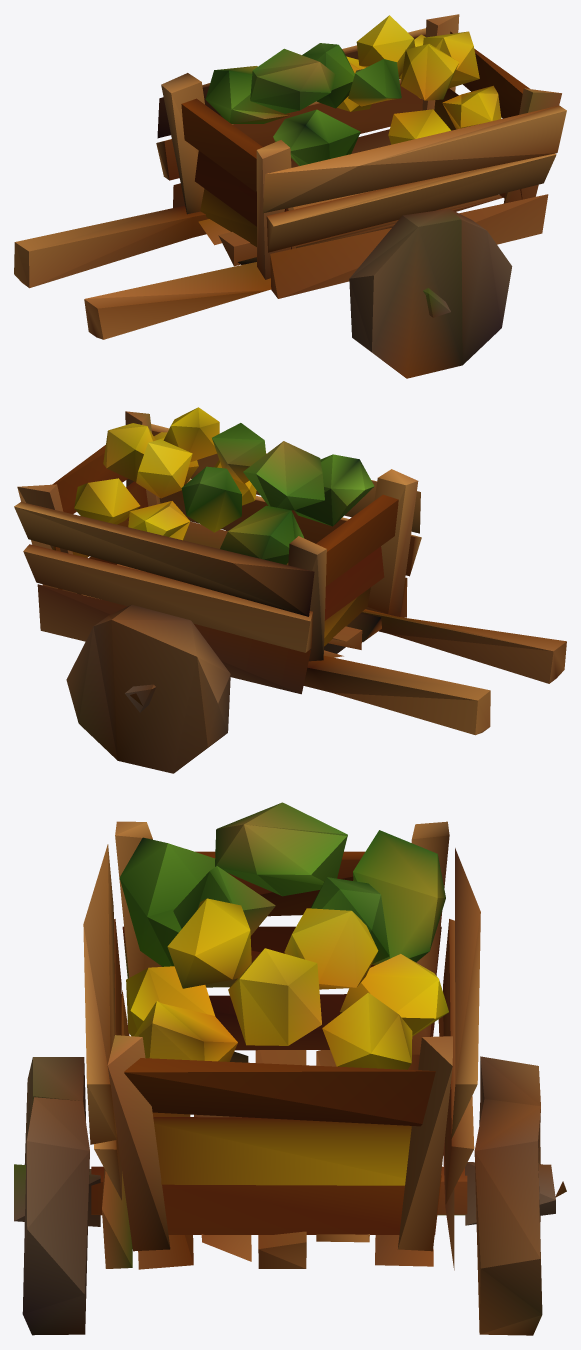
The model's file is cart_lo.glb.
The picture shows the model from 3 angles, top to bottom: view 1: azimuth 30°, elevation 25°; view 2: azimuth 150°, elevation 25°; view 3: azimuth 270°, elevation 25°; orthographic projection. The views are drawn at different scales.
Visible parts, largest first — view 1: geometry_0; view 2: geometry_0; view 3: geometry_0.
Part boxes in pixels (x1,y1,x2,y2): geometry_0: [14, 14, 566, 378]; geometry_0: [14, 407, 566, 773]; geometry_0: [14, 802, 566, 1335].
Size of the model in its own units: 0.9556 by 0.5543 by 0.6142.
